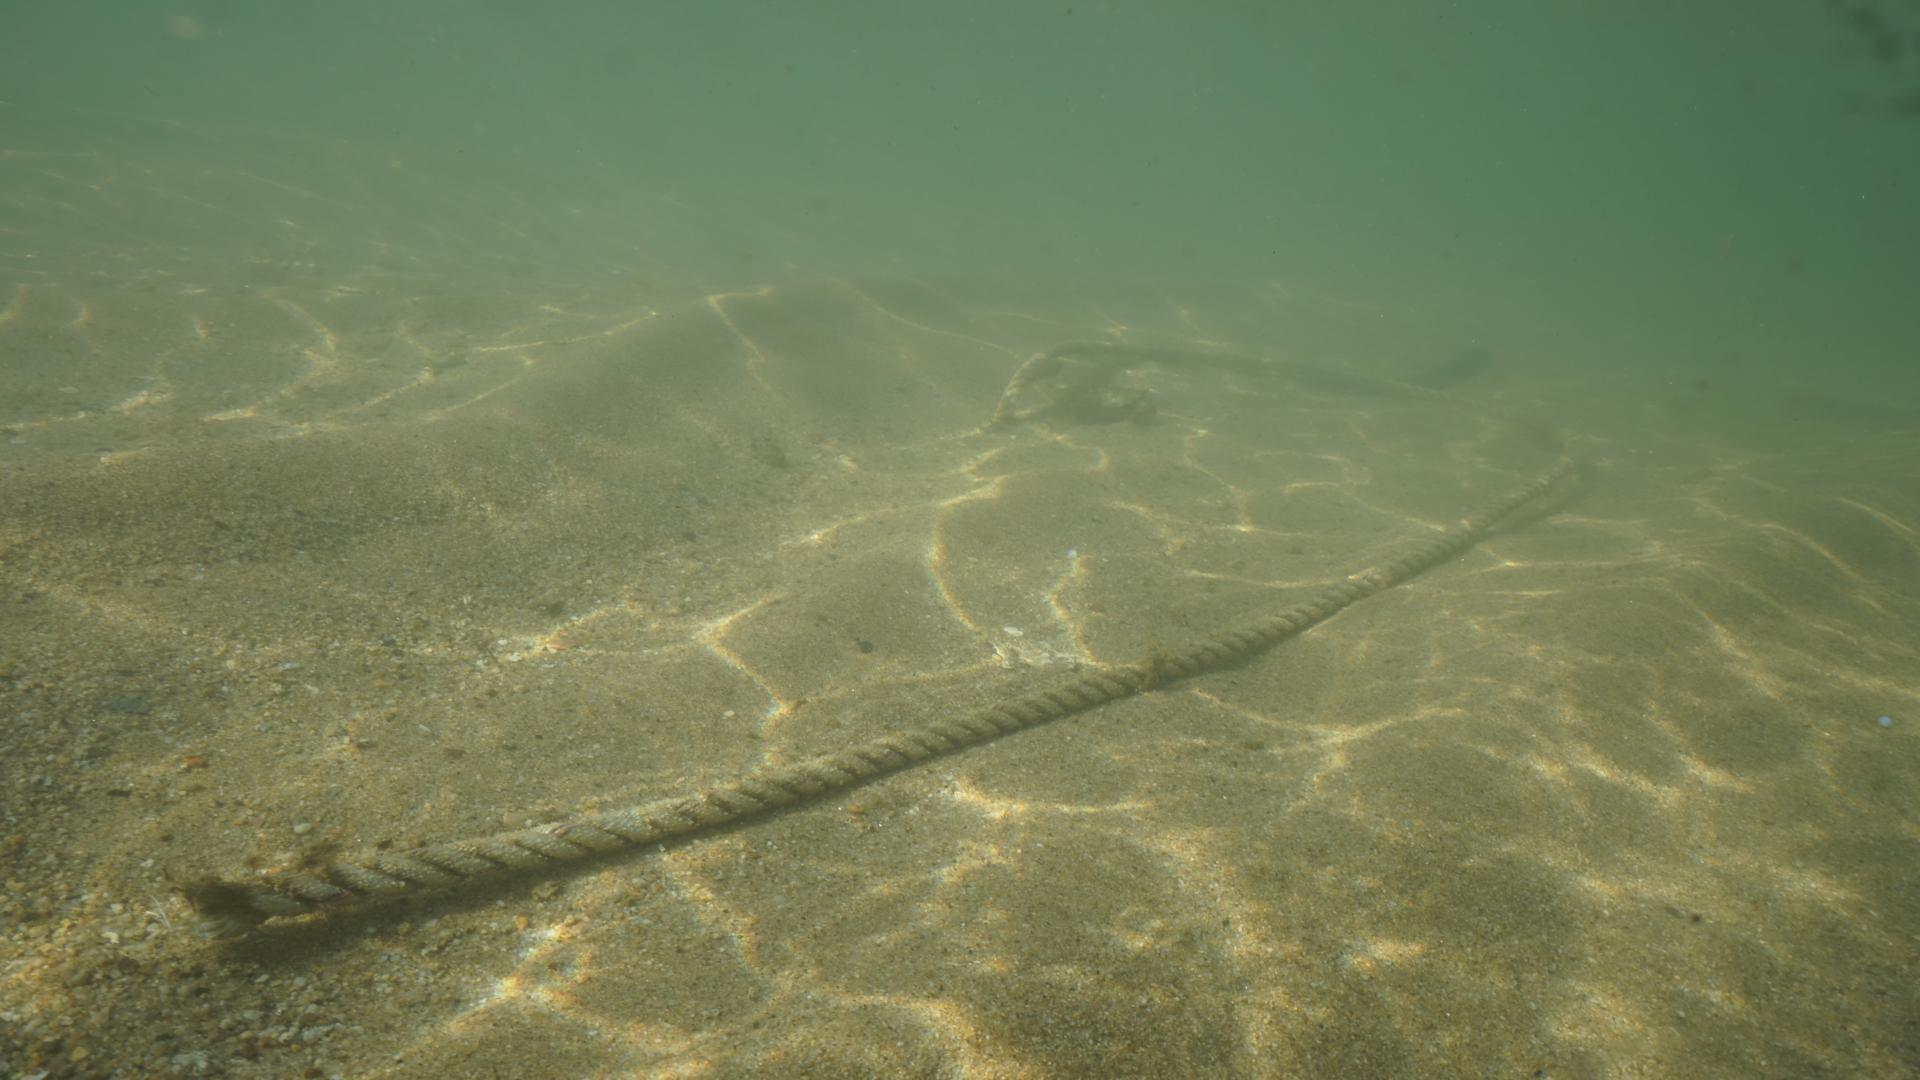rope: (208, 433, 1600, 911)
